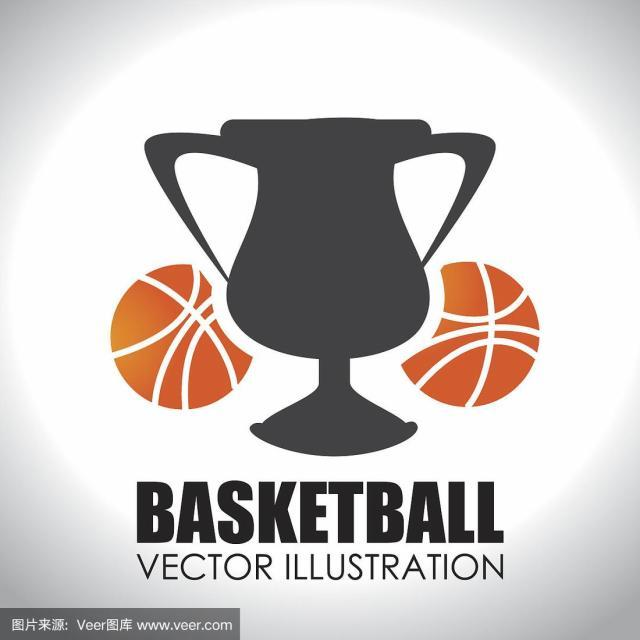rim: (403, 257, 540, 409), (108, 261, 246, 411)
